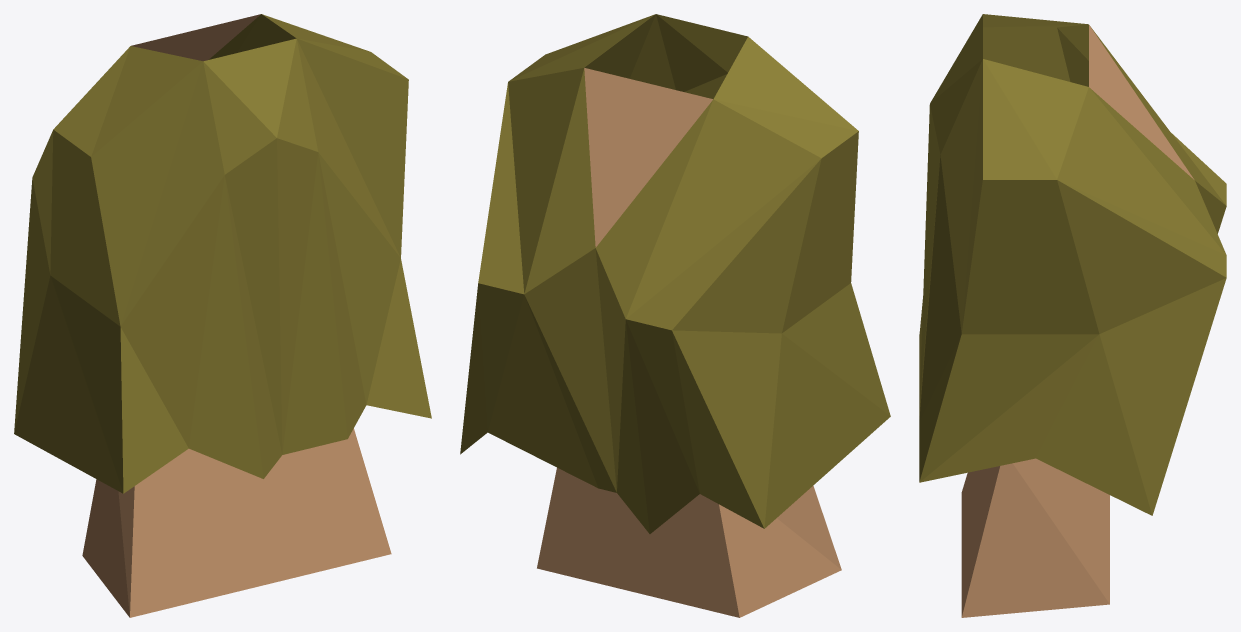
The model's file is player_female_chest_60_0.obj.
The picture shows the model from 3 angles, left to right: view 1: azimuth 30°, elevation 25°; view 2: azimuth 150°, elevation 25°; view 3: azimuth 270°, elevation 25°; orthographic projection.
Size of the model in its own units: 0.2656 by 0.4219 by 0.2266.
